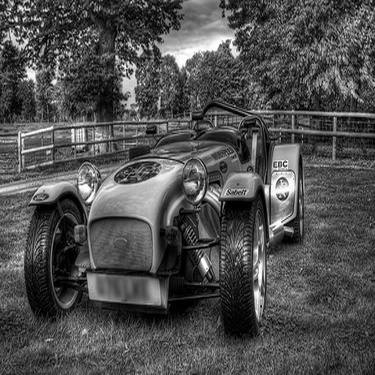car: (13, 100, 317, 346)
